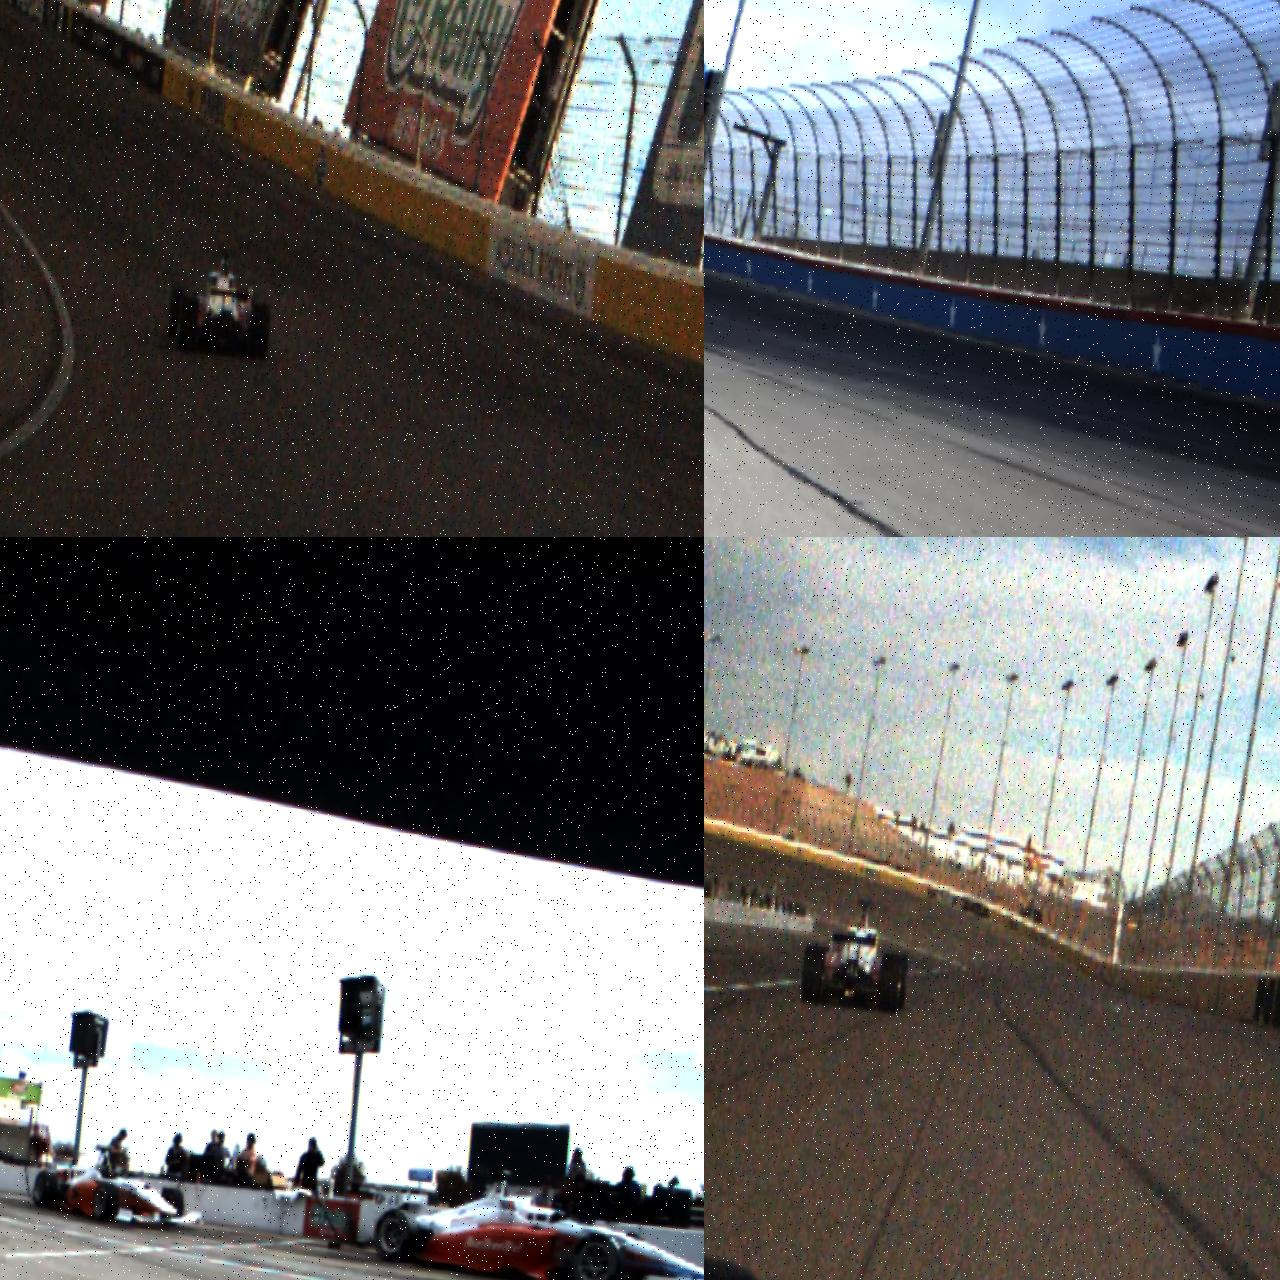AV: (369, 1155, 704, 1280), (29, 1138, 210, 1234), (799, 893, 915, 1014), (164, 244, 278, 362)
Wheel: (371, 1206, 419, 1266), (567, 1230, 619, 1280), (799, 945, 828, 1004), (876, 954, 902, 1012), (176, 297, 201, 355), (248, 303, 272, 362), (91, 1181, 122, 1225), (158, 1186, 187, 1228), (30, 1170, 60, 1208), (166, 285, 184, 340)
